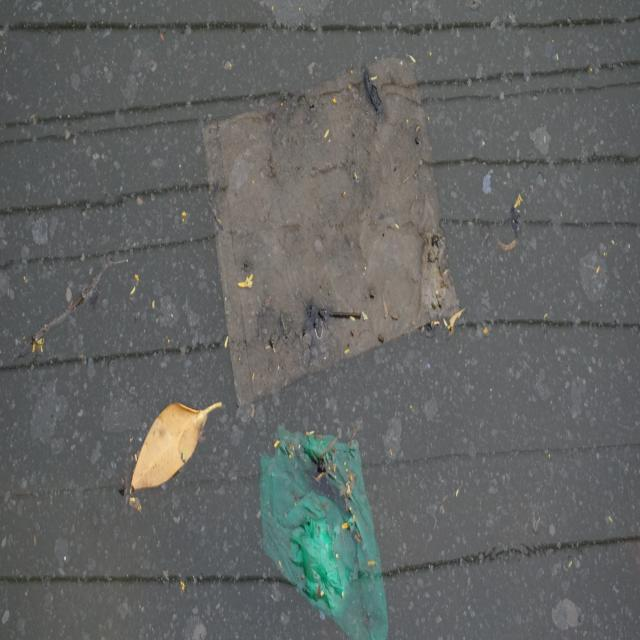Kantong Plastik: (200, 48, 468, 408), (245, 417, 396, 640)
